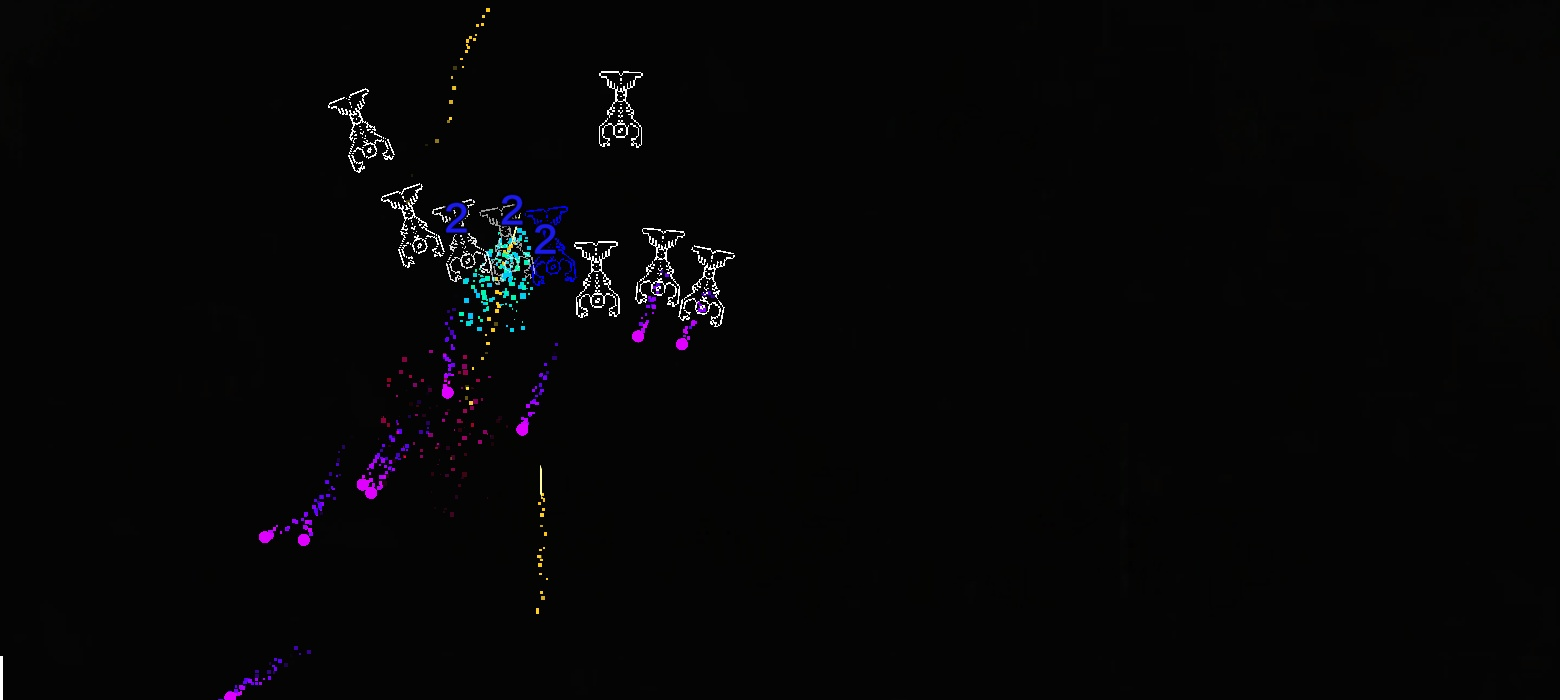enemy: (326, 87, 395, 174), (381, 183, 445, 268), (432, 198, 492, 283), (478, 203, 536, 285), (678, 245, 735, 328), (525, 206, 577, 286), (634, 227, 685, 307), (574, 241, 620, 318), (598, 71, 643, 148)
